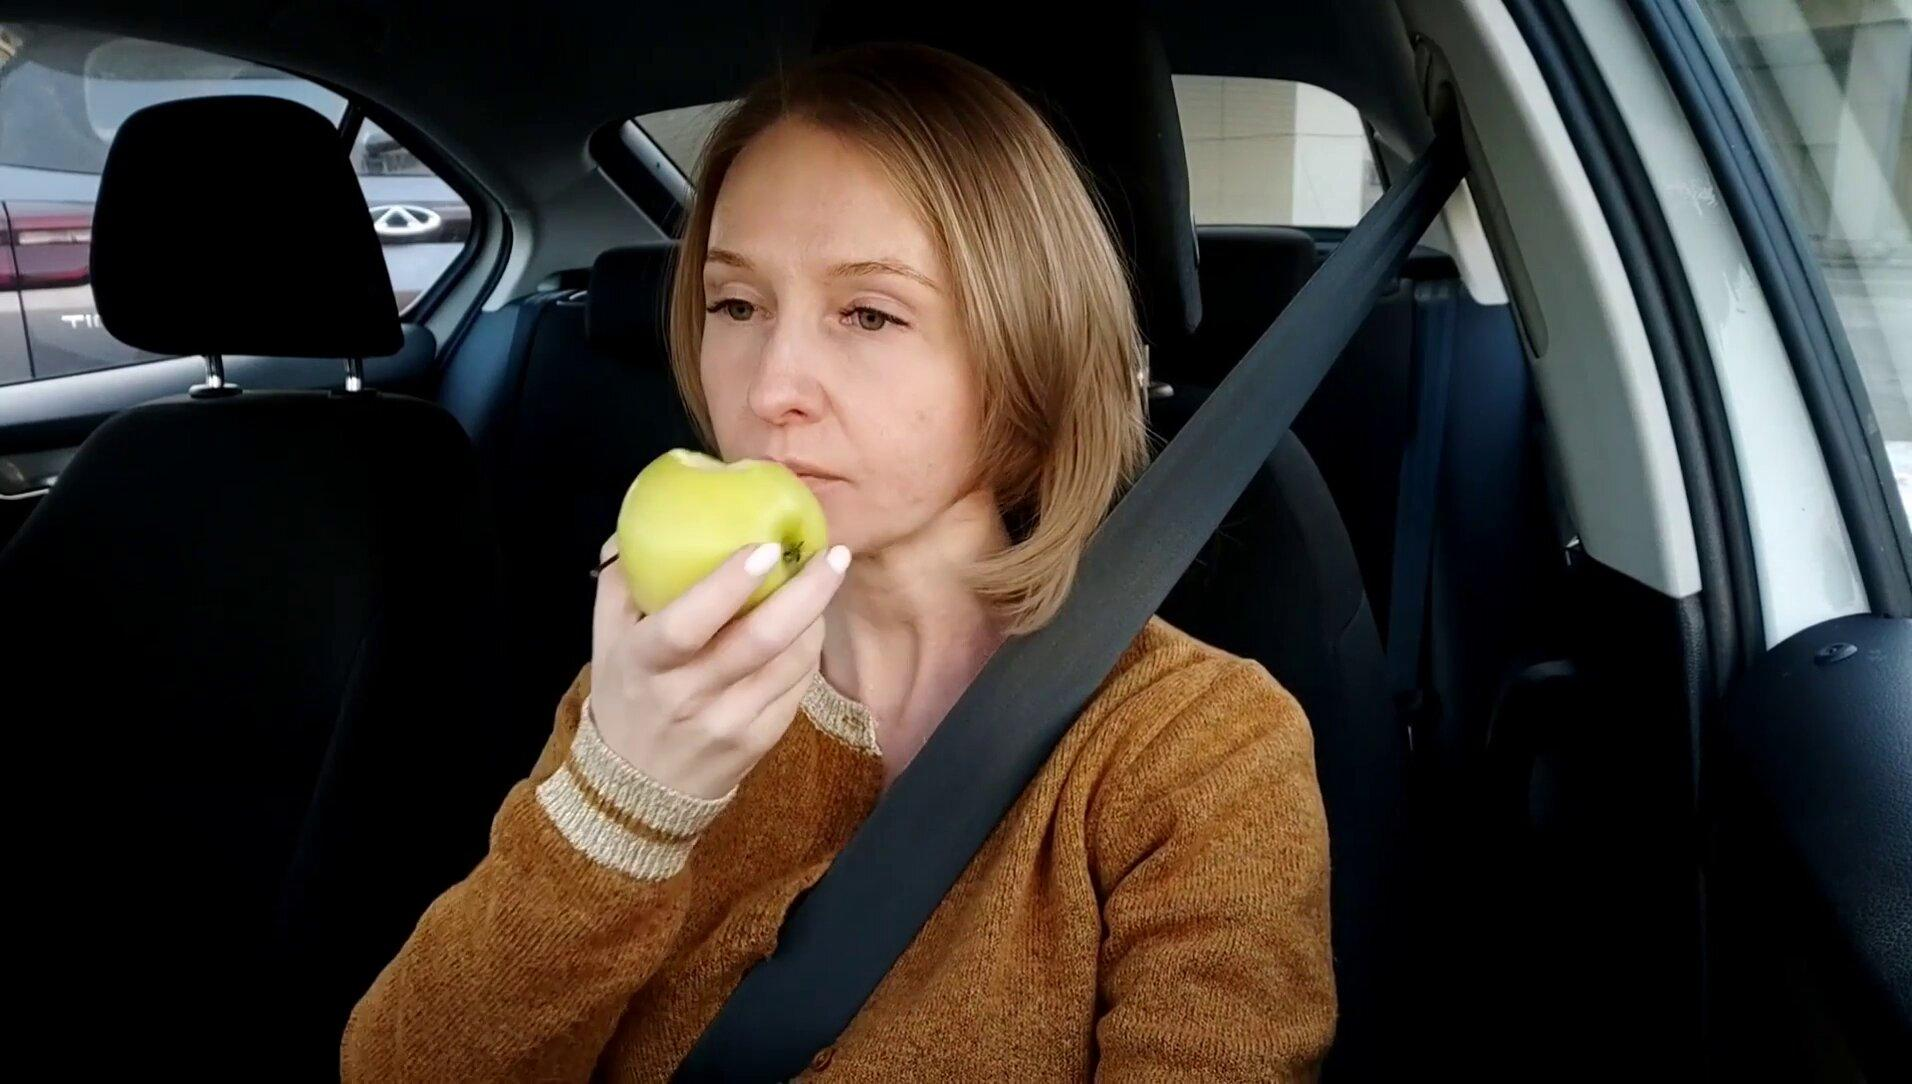Eating: (615, 434, 840, 646)
